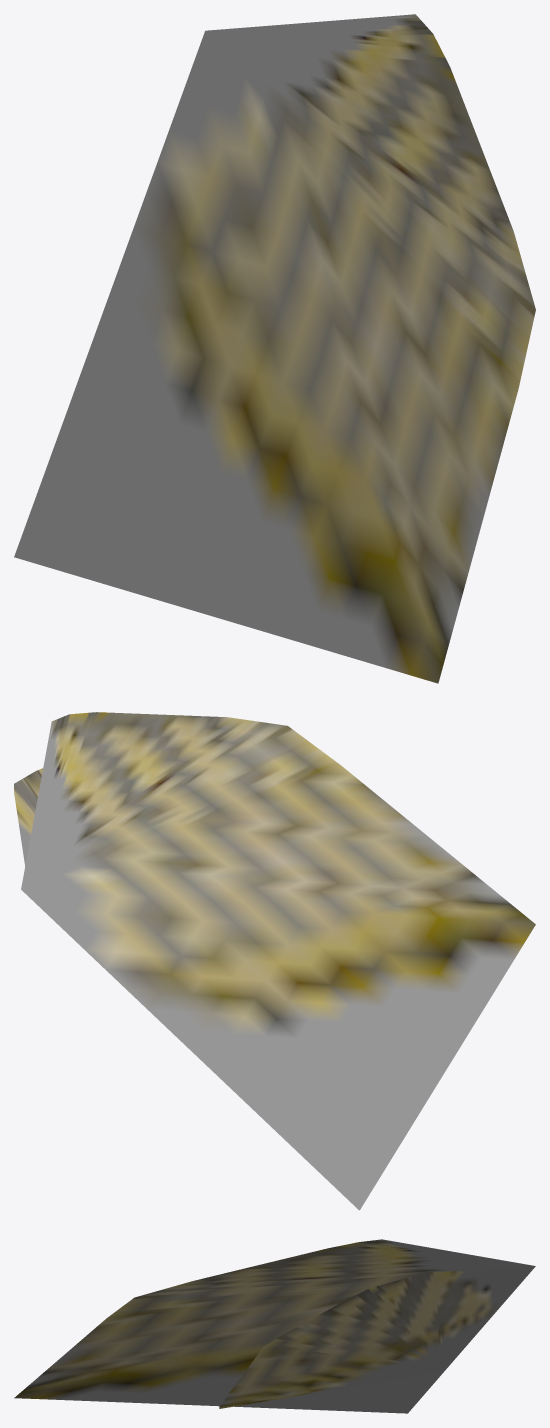
Rendered from guard-left.glb.
3 views of the same model, one above another, from view 1: azimuth 30°, elevation 25°; view 2: azimuth 150°, elevation 25°; view 3: azimuth 270°, elevation 25° (orthographic). The views are drawn at different scales.
Visible parts, largest first — view 1: left-panel-2; view 2: left-panel-2, left-panel-1; view 3: left-panel-2, left-panel-1.
Boxes of the visible parts, <box> form: left-panel-2: <box>14,14,535,683</box>; left-panel-2: <box>21,712,535,1210</box>; left-panel-1: <box>14,768,42,866</box>; left-panel-2: <box>14,1239,535,1413</box>; left-panel-1: <box>219,1270,532,1408</box>.
Bounding box in the file's own units: 1.06 × 1.17 × 1.91.
